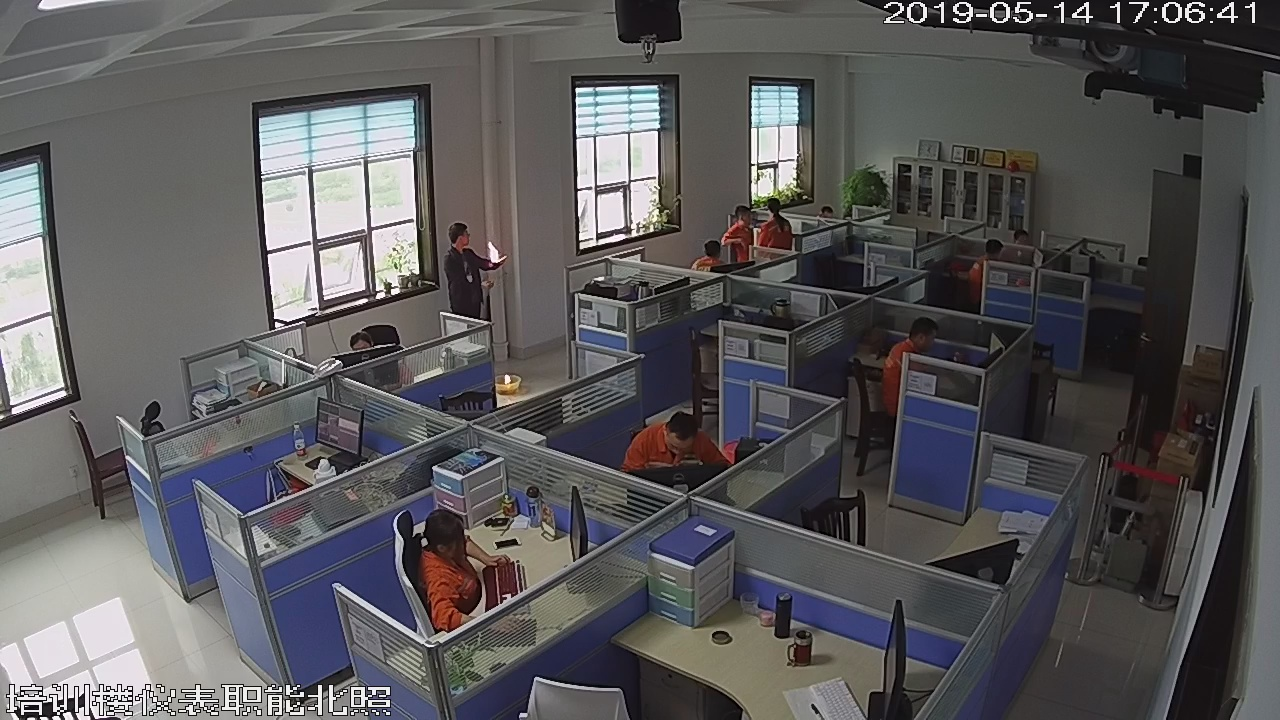fire: (484, 236, 504, 262), (503, 370, 518, 385)
